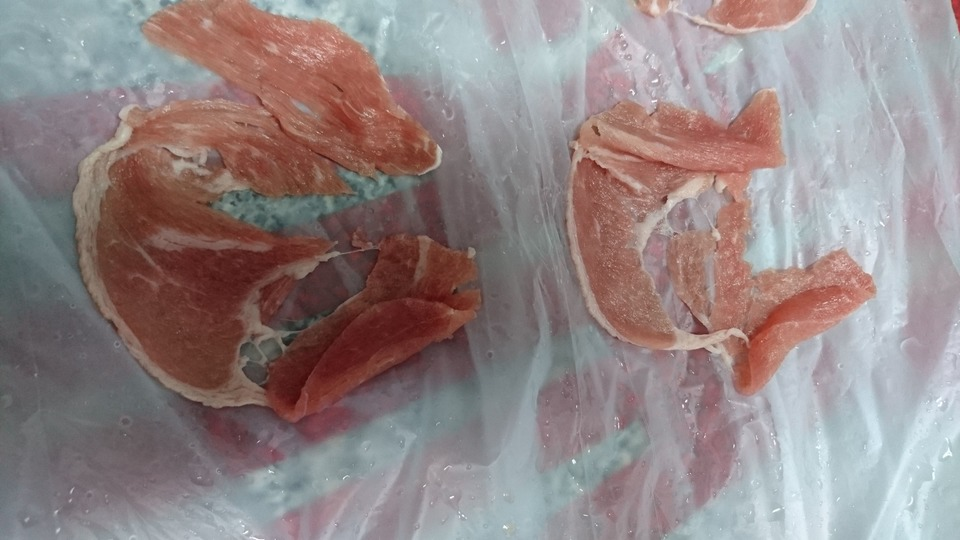restructured meat: (76, 15, 477, 420), (563, 85, 856, 381)
